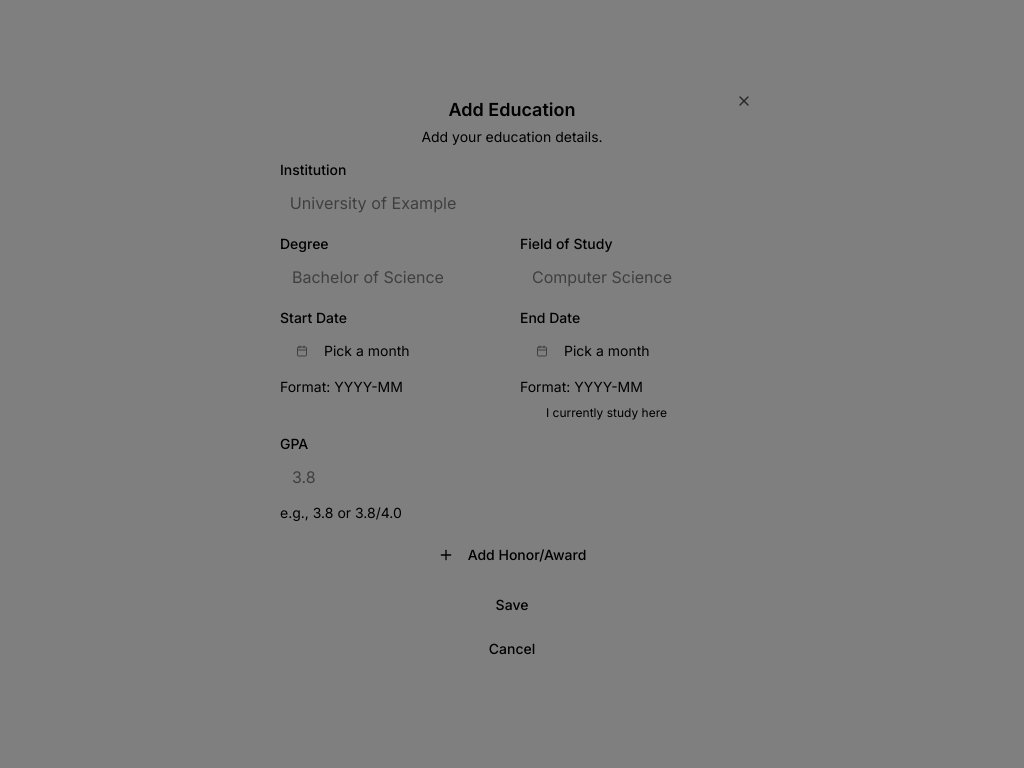
Test: EducationFormDialog › Form Validation › validates GPA max length
GPA has a max of 10 characters
Type "12345678901" into the field labelled "GPA" at (512, 477), box [280, 459, 744, 495]
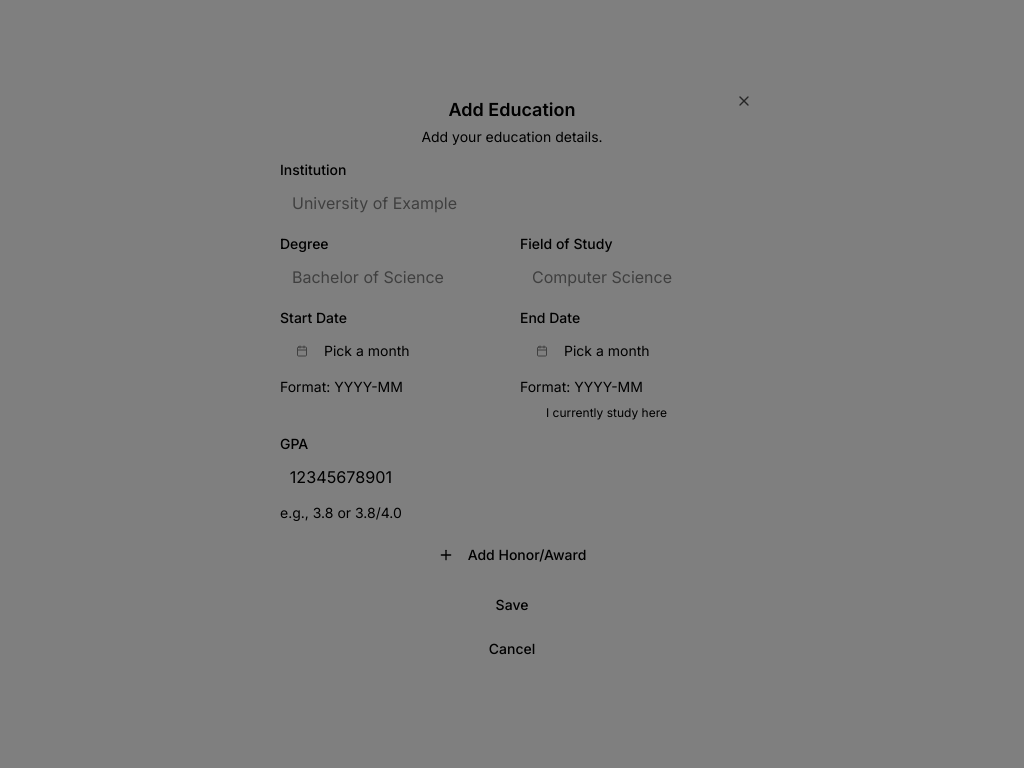
Click the button "Save" at (512, 605), box [280, 587, 744, 623]
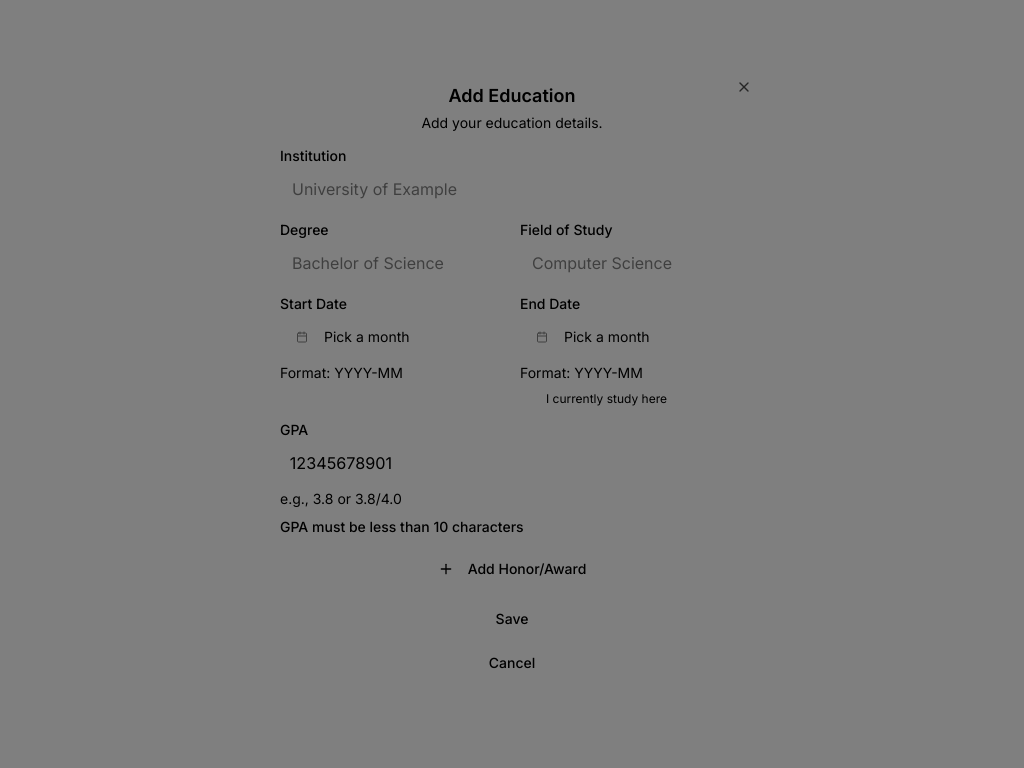
Check: the text "GPA must be less than 10 characters" is shown, box [280, 518, 524, 535]
